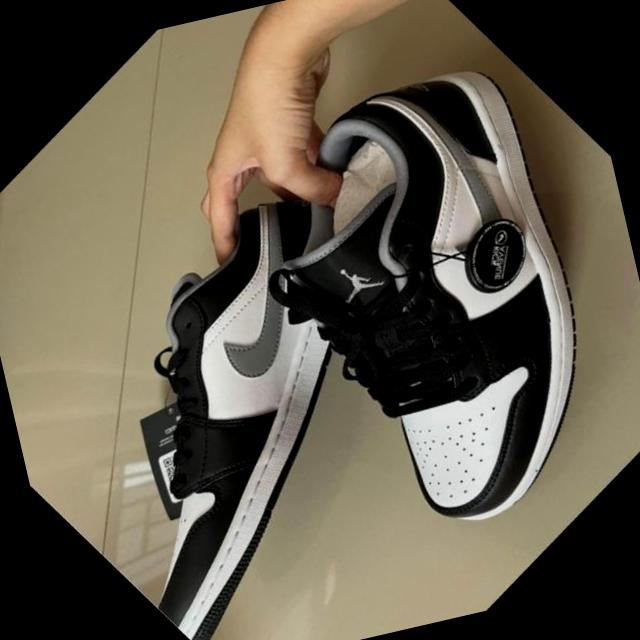nike_original_jordan: (140, 0, 640, 600), (0, 133, 531, 640)
